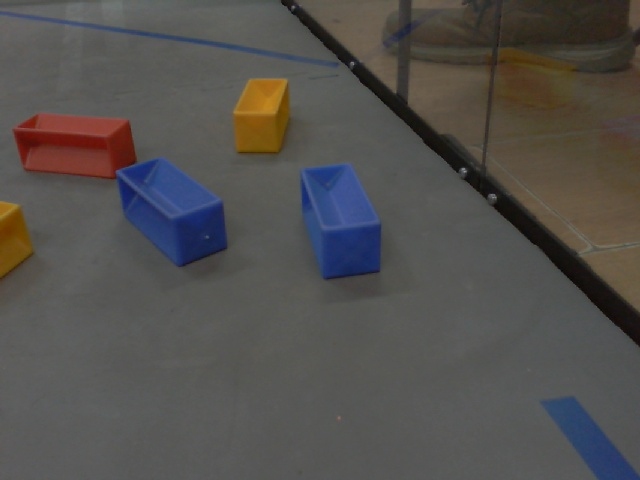BlueSample: (111, 152, 231, 272), (296, 157, 386, 283)
RedSample: (11, 110, 141, 179)
YellowSample: (227, 72, 294, 157), (1, 199, 36, 286)
